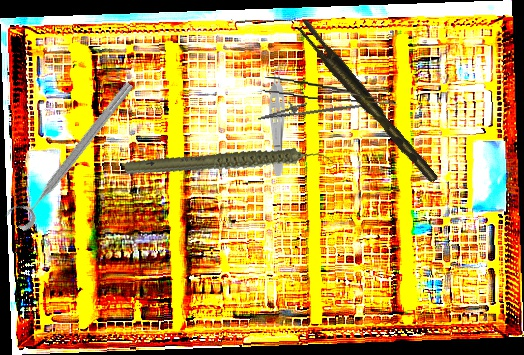Fixation Ring: (2, 71, 139, 234)
Handpiece: (121, 118, 336, 210)
Needle Holder: (255, 83, 368, 133)
Tissue Forceps: (295, 14, 439, 191), (261, 76, 398, 105), (269, 62, 288, 176)
